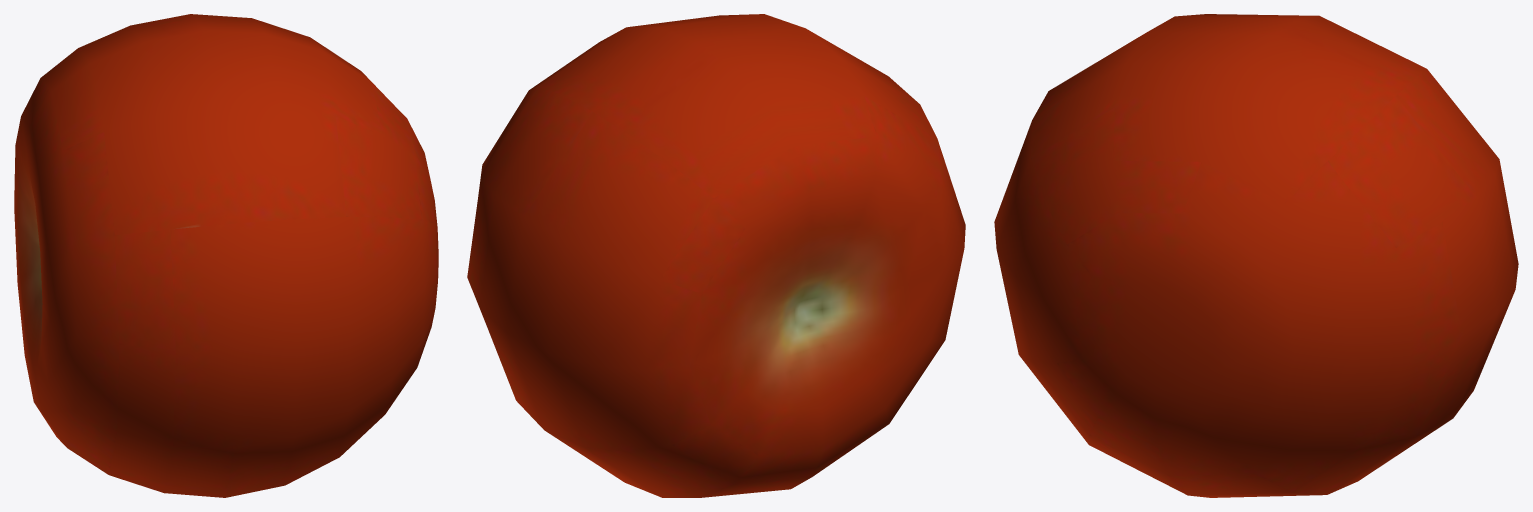
The model's file is SM_配餐室_水果蔬菜_20.fbx.
3 renders of one model, left to right at view 1: azimuth 30°, elevation 25°; view 2: azimuth 150°, elevation 25°; view 3: azimuth 270°, elevation 25°, orthographic. The views are drawn at different scales.
Parts seen in each view (by area): view 1: SM_配餐室_水果蔬菜_20; view 2: SM_配餐室_水果蔬菜_20; view 3: SM_配餐室_水果蔬菜_20.
Part boxes in pixels (x1,y1,x2,y2): SM_配餐室_水果蔬菜_20: [14, 14, 438, 497]; SM_配餐室_水果蔬菜_20: [467, 14, 965, 497]; SM_配餐室_水果蔬菜_20: [994, 14, 1518, 497].
Bounding box in the file's own units: 86.14 × 90.36 × 94.52.
